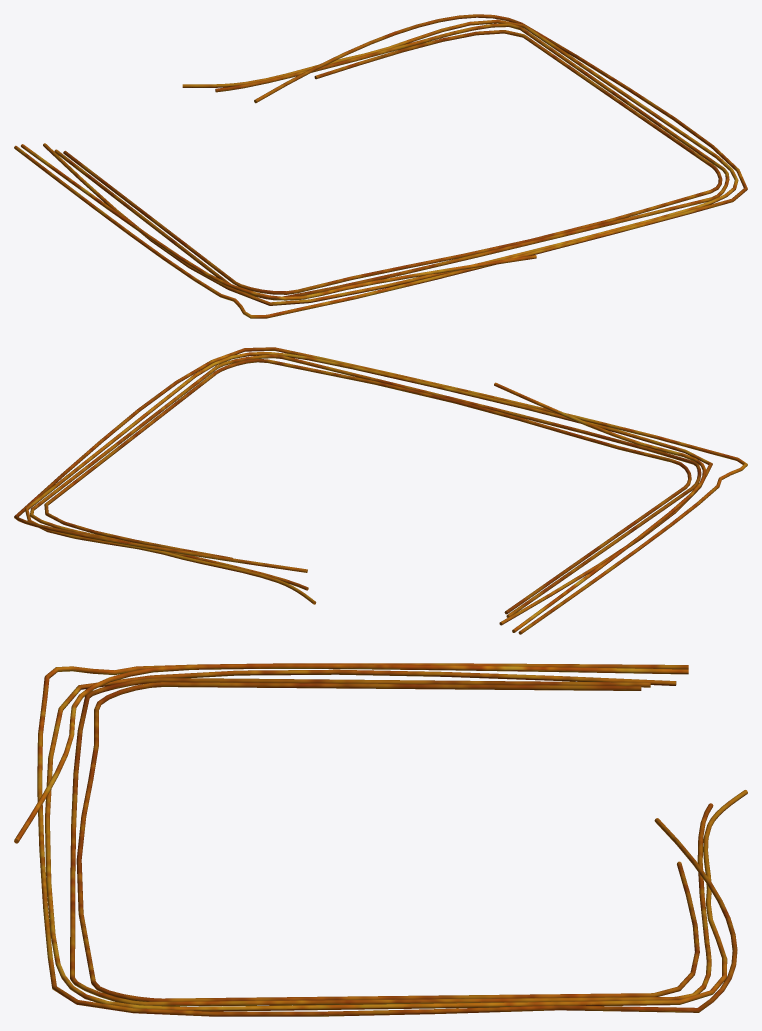
The model's file is cable2.FBX.
The picture shows the model from 3 angles, top to bottom: view 1: azimuth 30°, elevation 25°; view 2: azimuth 150°, elevation 25°; view 3: azimuth 270°, elevation 25°; orthographic projection. The views are drawn at different scales.
Visible parts, largest first — view 1: Line006, Line003, Line002, Line004, Line005; view 2: Line006, Line004, Line003, Line002, Line005; view 3: Line004, Line006, Line003, Line002, Line005.
Part boxes in pixels (left/top/right/bottom): Line006: left=14, top=14, right=747, bottom=318; Line003: left=54, top=23, right=729, bottom=300; Line002: left=63, top=30, right=722, bottom=294; Line004: left=43, top=19, right=738, bottom=305; Line005: left=21, top=144, right=536, bottom=300; Line006: left=14, top=347, right=747, bottom=634; Line004: left=25, top=352, right=712, bottom=625; Line003: left=30, top=354, right=701, bottom=617; Line002: left=44, top=358, right=691, bottom=614; Line005: left=494, top=382, right=706, bottom=632; Line004: left=45, top=669, right=747, bottom=1011; Line006: left=37, top=663, right=737, bottom=1016; Line003: left=70, top=678, right=713, bottom=1006; Line002: left=76, top=682, right=699, bottom=1001; Line005: left=14, top=664, right=688, bottom=843.
Size of the model in its own units: 313 by 8.14 by 277.
Materials: 1 (1 with a texture image).
